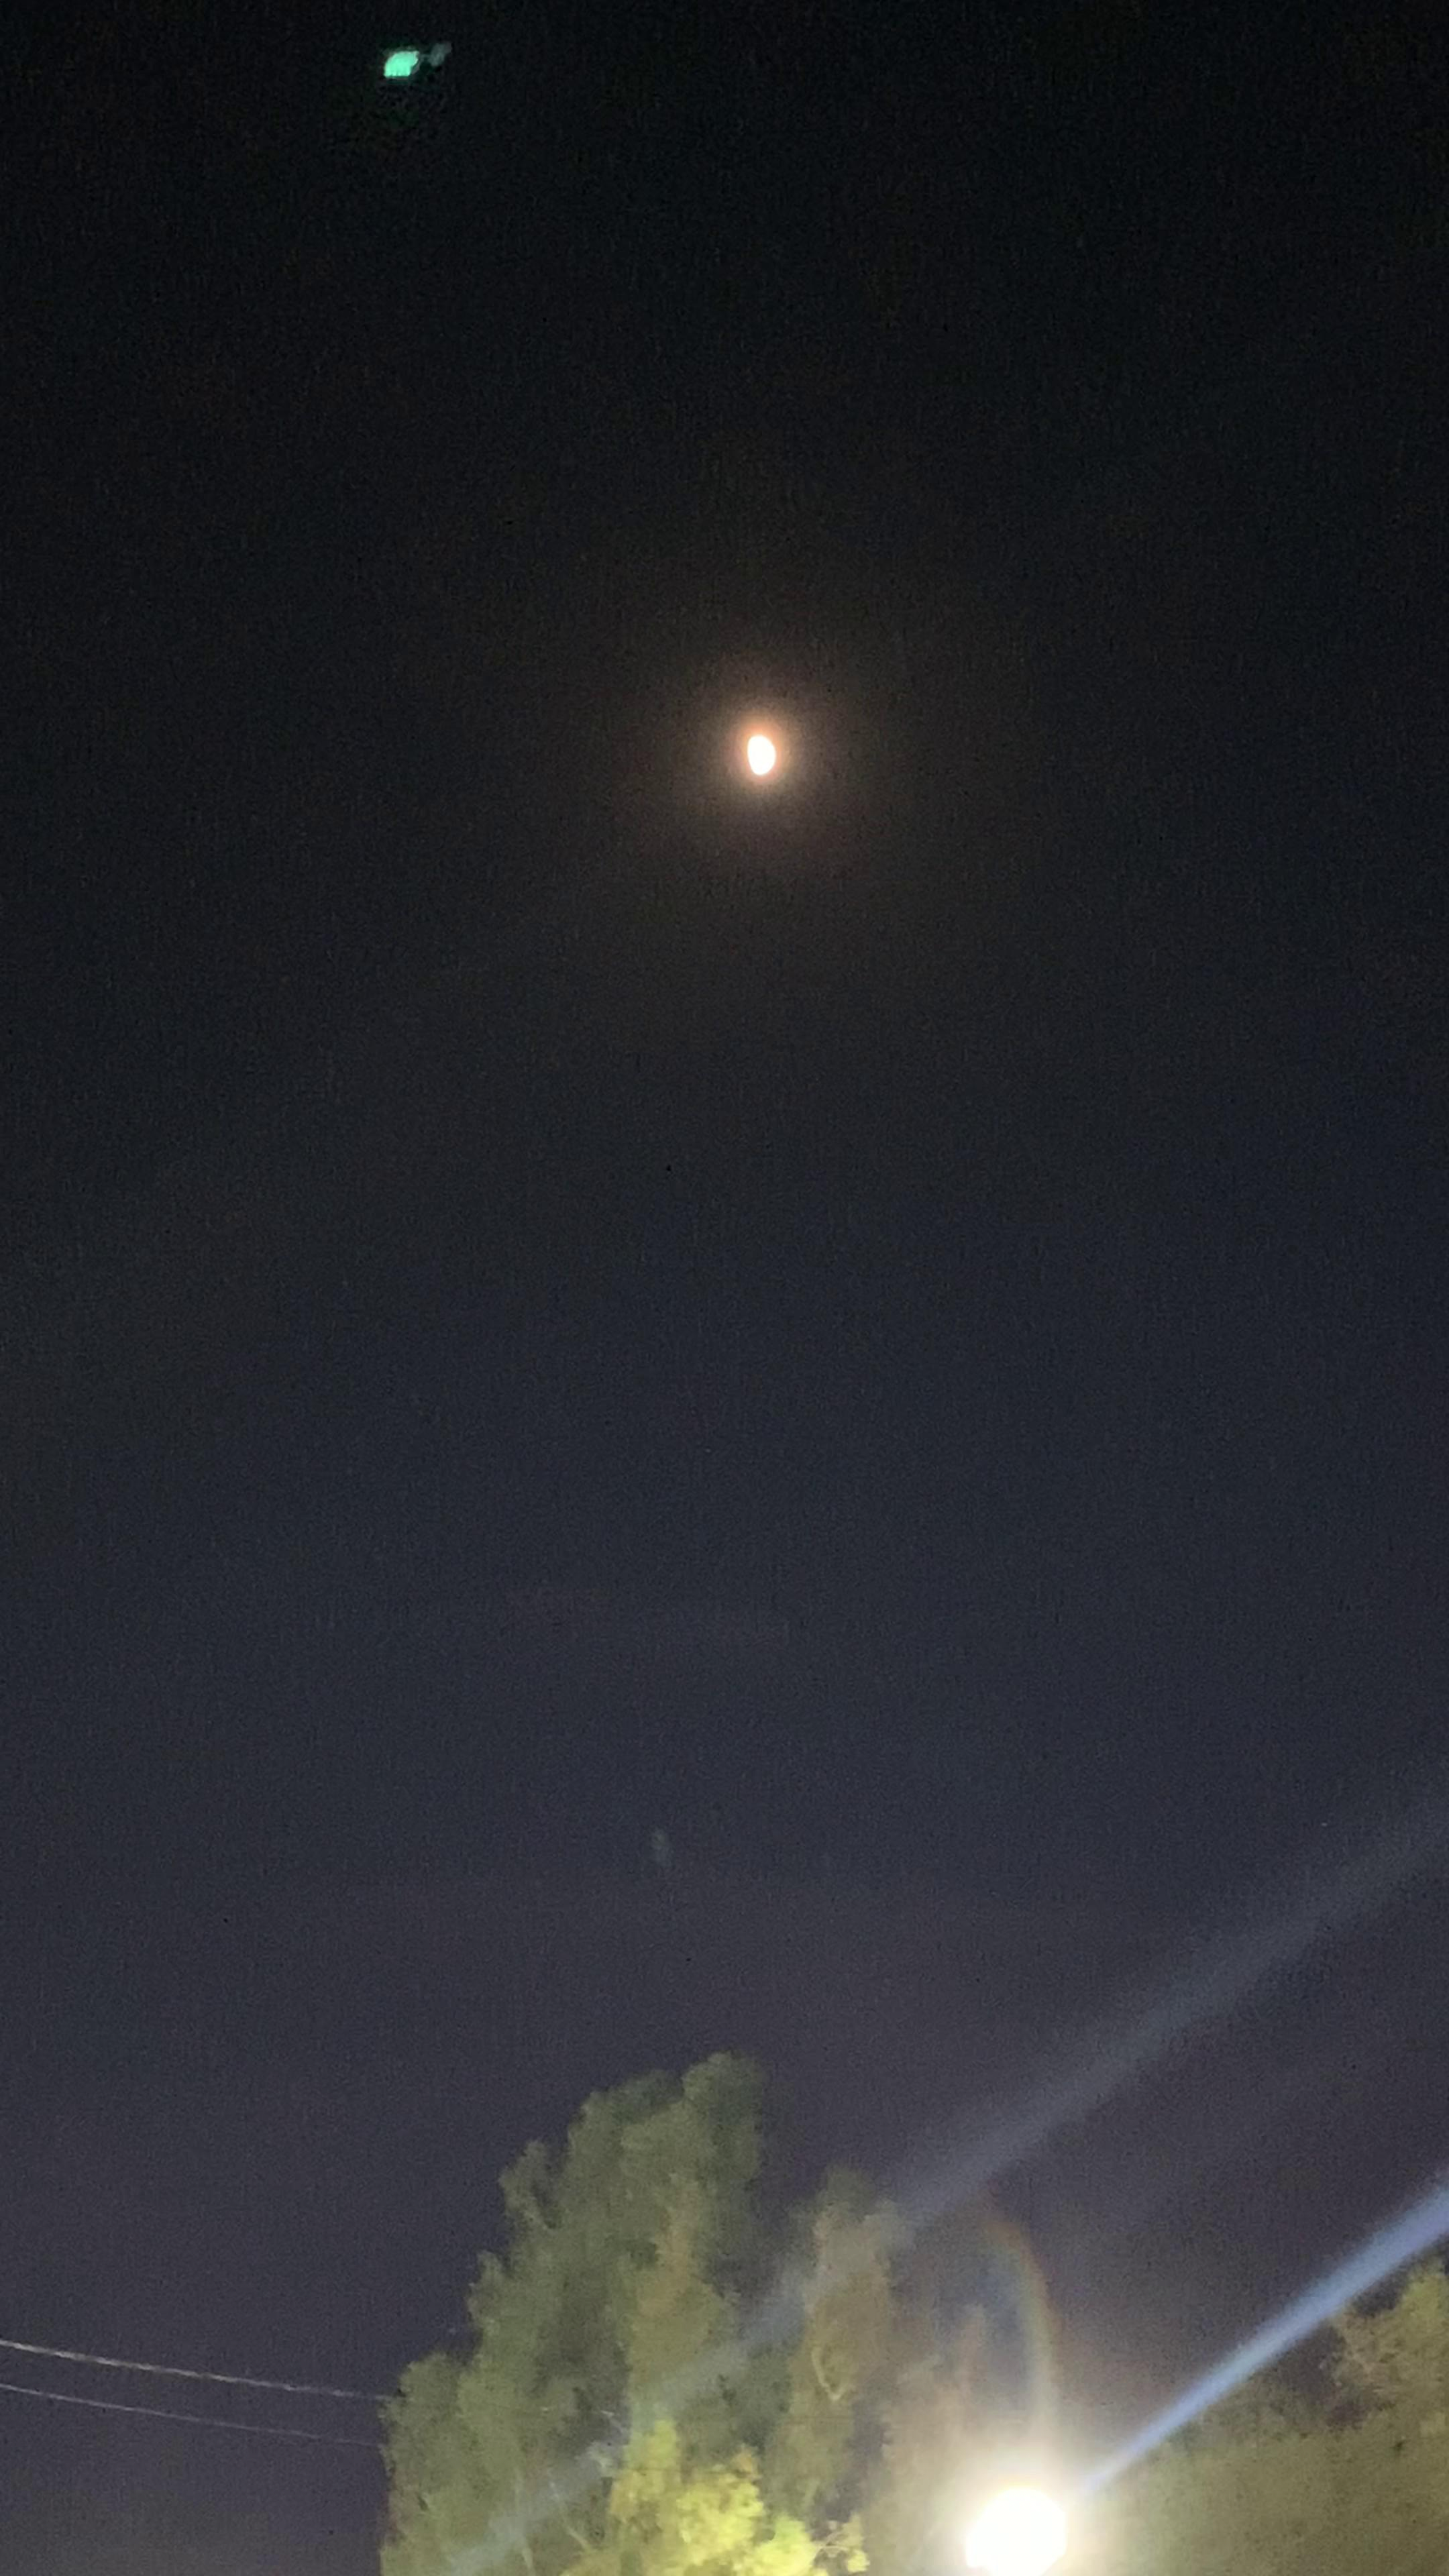moon: (685, 701, 846, 847)
